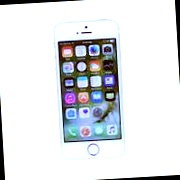iphone: (56, 20, 122, 159)
